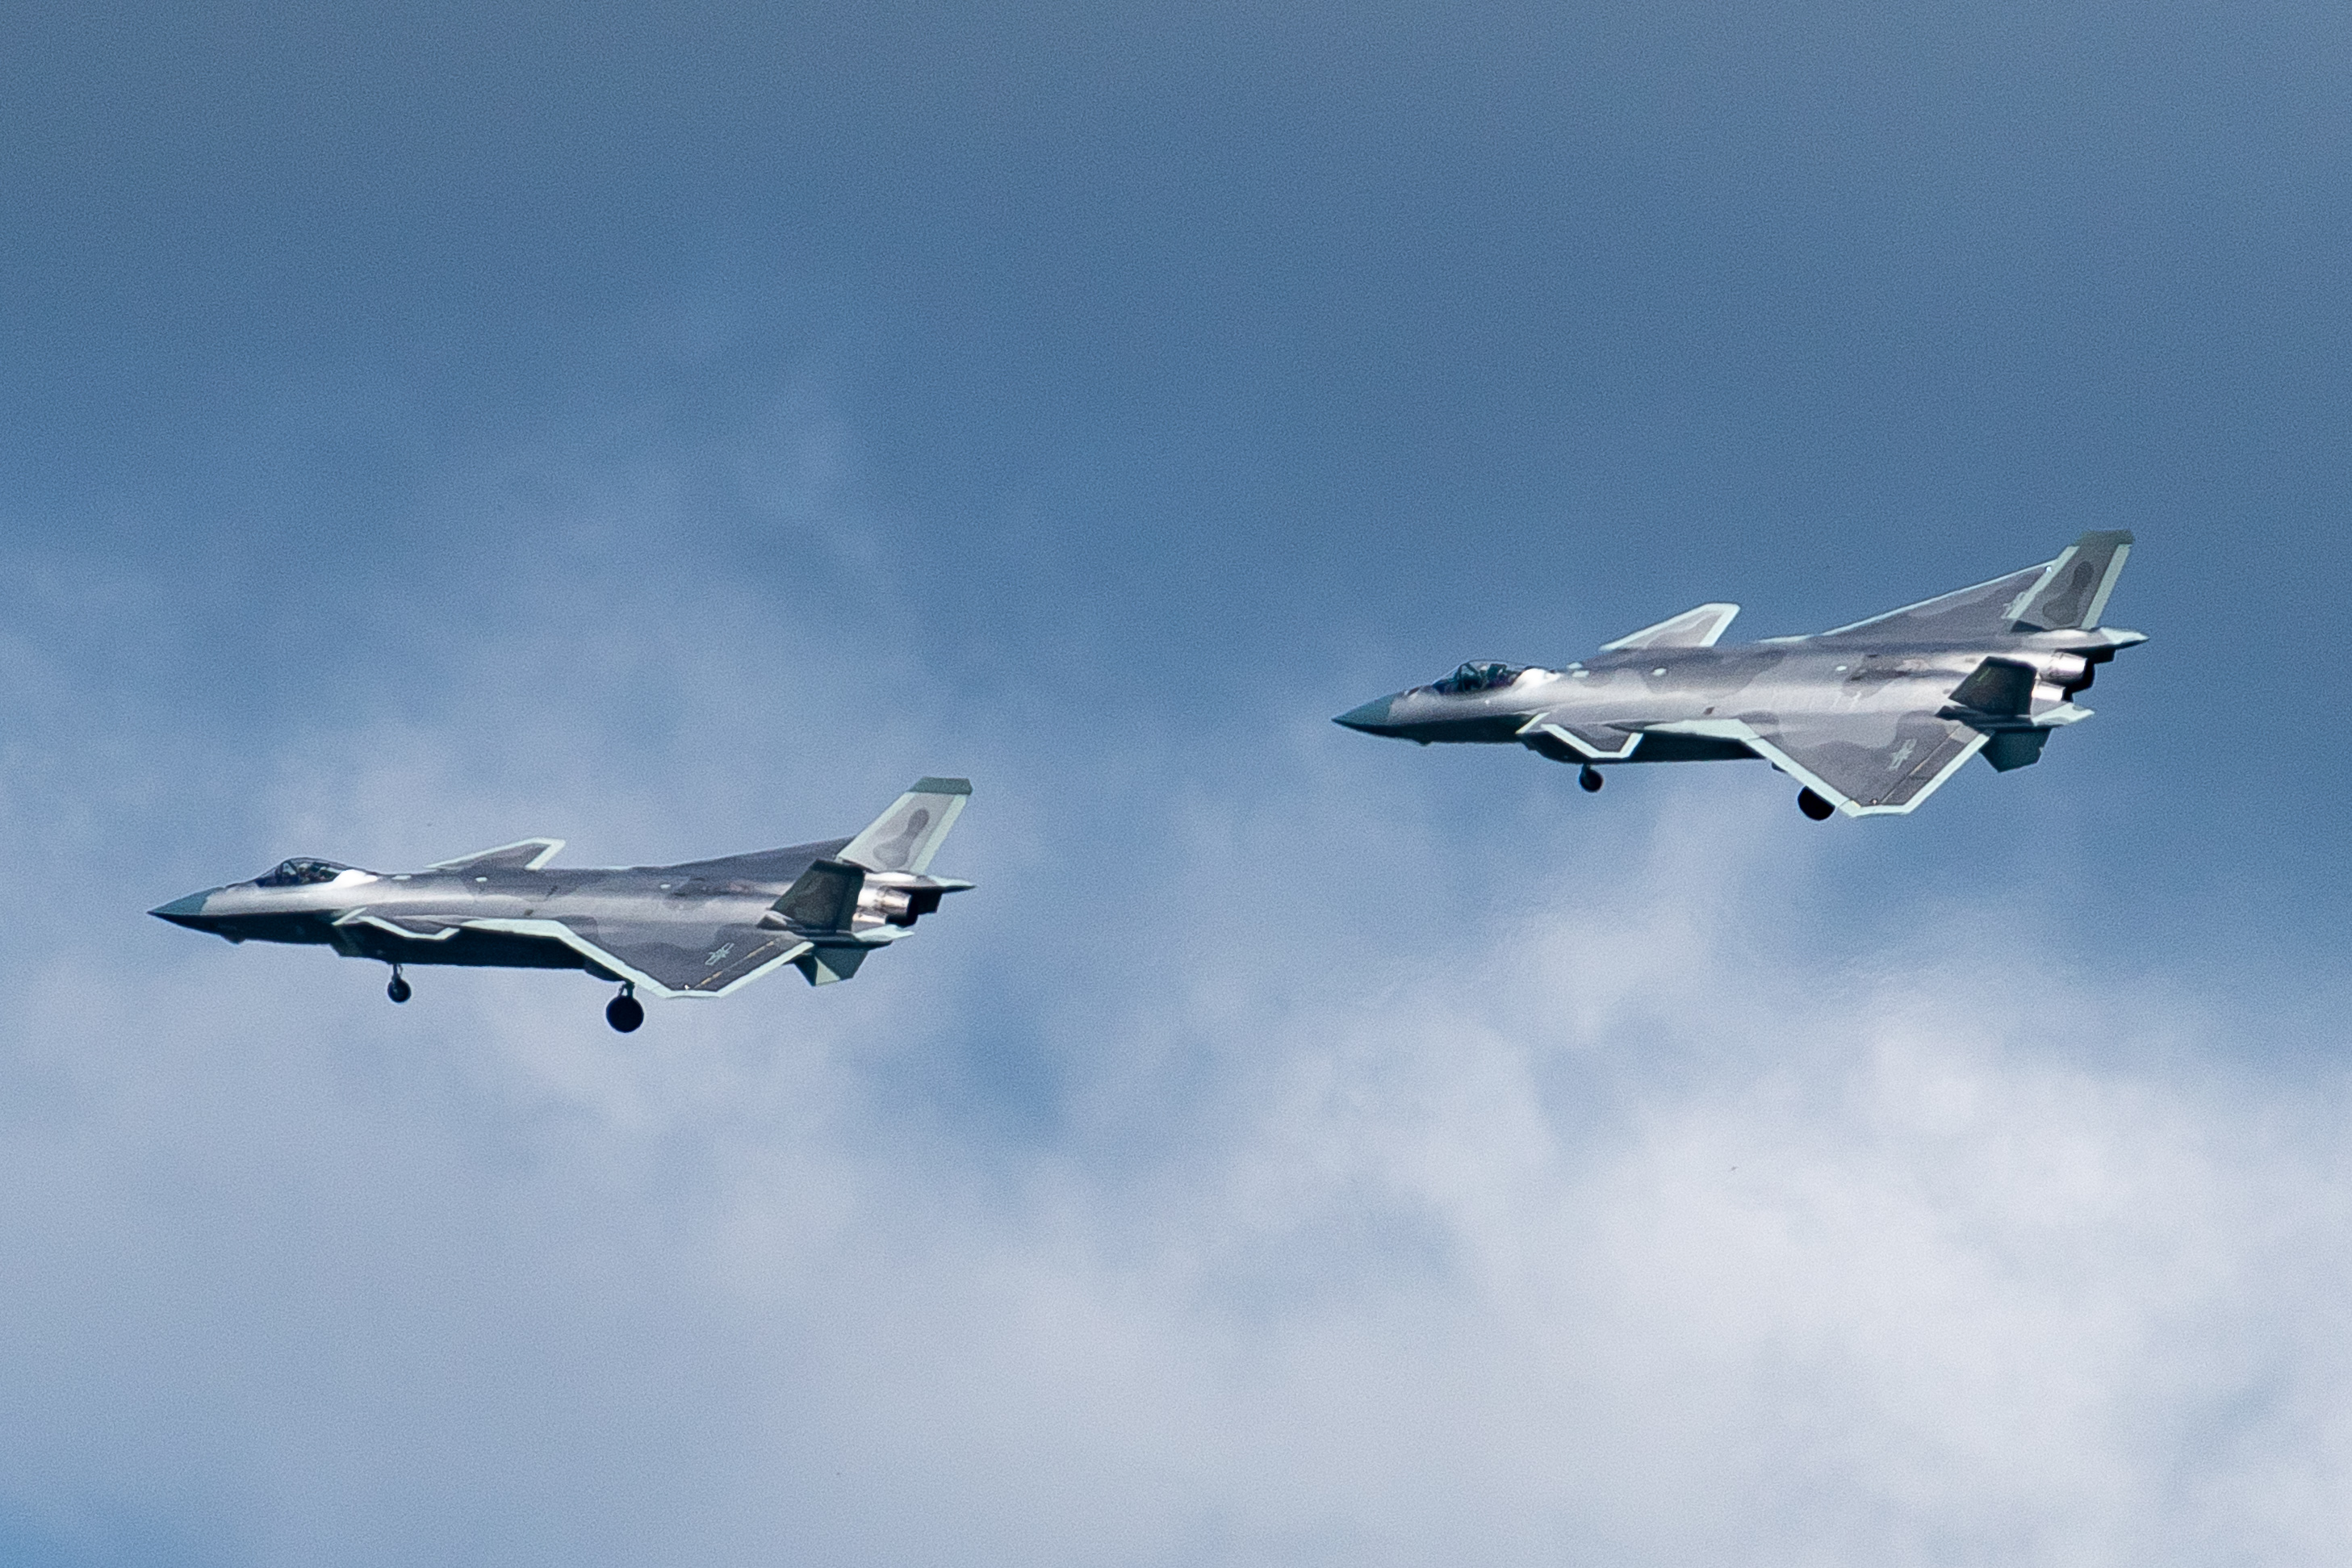J20: (1330, 527, 2151, 821), (145, 775, 980, 1032)
